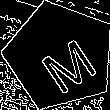M_NW: (25, 22, 94, 90)
